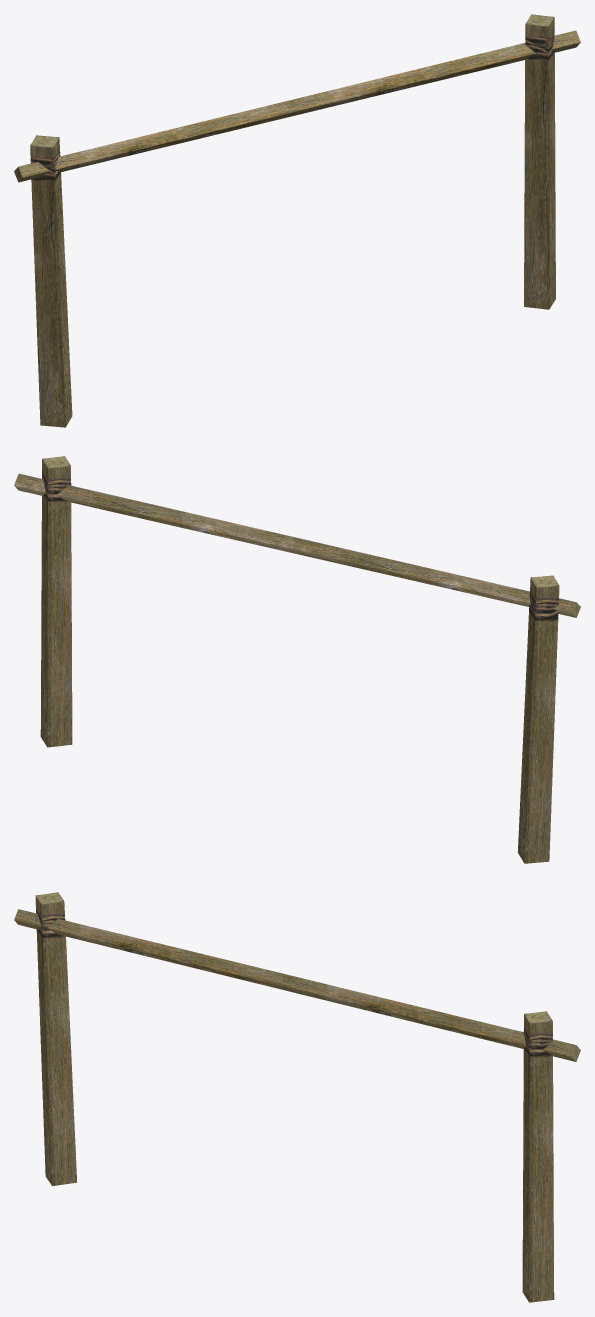
File: thm_endr_lake_rail2m_l1.fbx
3 renders of one model, top to bottom at view 1: azimuth 30°, elevation 25°; view 2: azimuth 150°, elevation 25°; view 3: azimuth 330°, elevation 25°, orthographic.
Parts seen in each view (by area): view 1: mesh_node; view 2: mesh_node; view 3: mesh_node.
Boxes of the visible parts, bbox=[...] form: mesh_node: bbox=[14, 14, 580, 427]; mesh_node: bbox=[14, 456, 580, 863]; mesh_node: bbox=[14, 892, 580, 1302].
Bounding box in the file's own units: 2 × 0.9654 × 0.1142.
